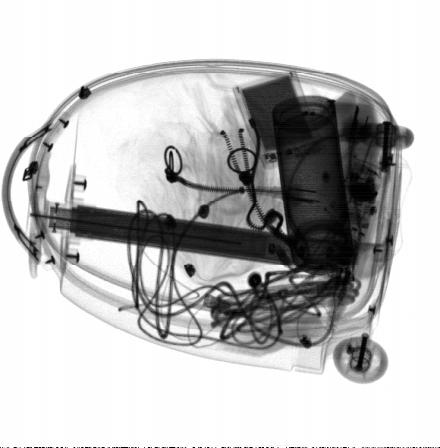Powerbank: (232, 70, 325, 173)
